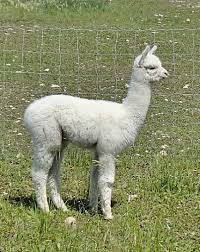alpaca: (23, 43, 168, 220)
